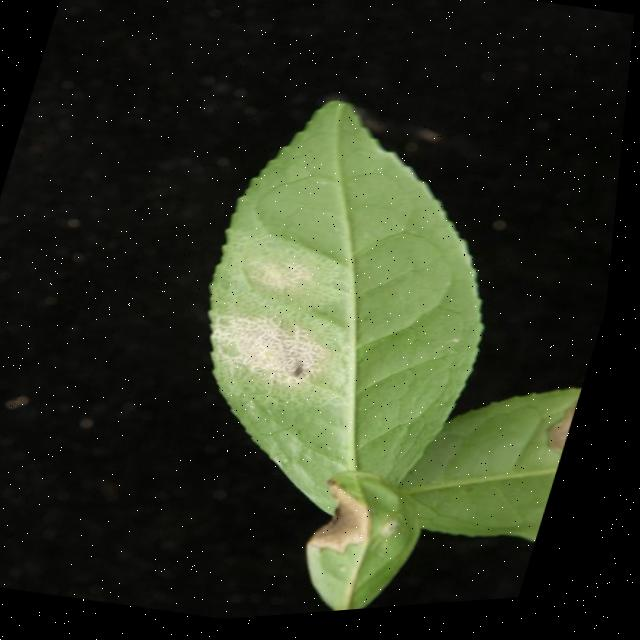Tea exobasidium blight: (199, 303, 350, 411), (227, 241, 335, 307)
